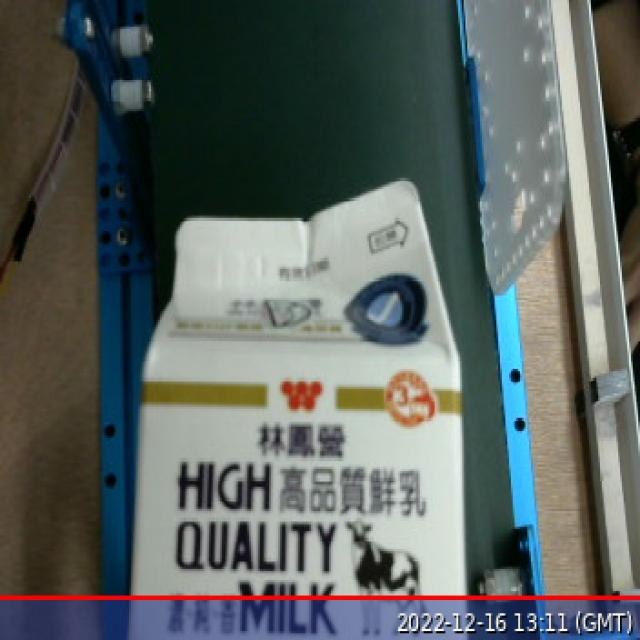non_white_jug: (107, 160, 485, 640)
